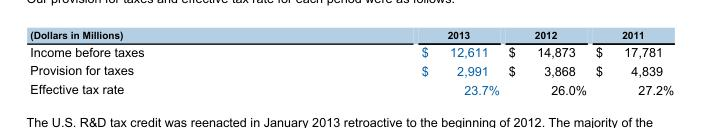table: (29, 28, 673, 96)
table column: (29, 28, 282, 96), (282, 28, 503, 96), (503, 28, 590, 96), (590, 28, 673, 96)
table column header: (29, 28, 673, 42)
table row: (29, 60, 673, 79), (29, 42, 673, 60), (29, 79, 673, 96), (29, 28, 673, 42)
